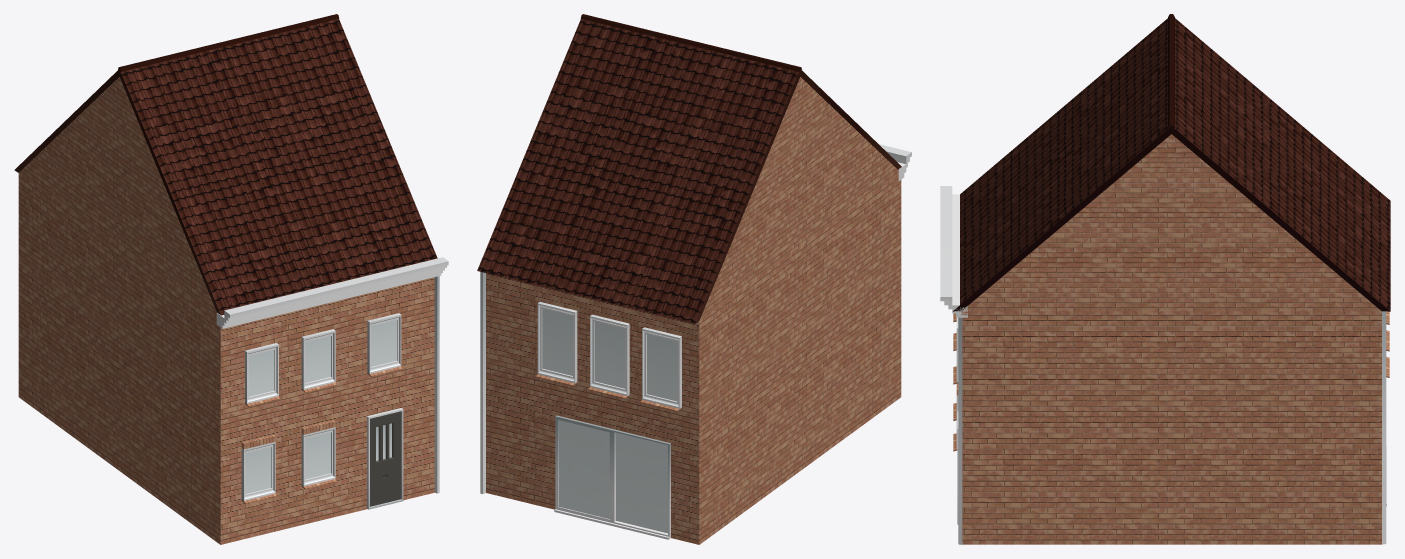
File: Buorkerij_57.fbx
The picture shows the model from 3 angles, left to right: view 1: azimuth 30°, elevation 25°; view 2: azimuth 150°, elevation 25°; view 3: azimuth 270°, elevation 25°; orthographic projection. The views are drawn at different scales.
Parts seen in each view (by area): view 1: Buorkerij_57; view 2: Buorkerij_57; view 3: Buorkerij_57.
Boxes of the visible parts, <box> form: Buorkerij_57: <box>14,14,448,544</box>; Buorkerij_57: <box>477,14,911,544</box>; Buorkerij_57: <box>940,14,1390,544</box>.
Bounding box in the file's own units: 595 × 1044 × 1015.
